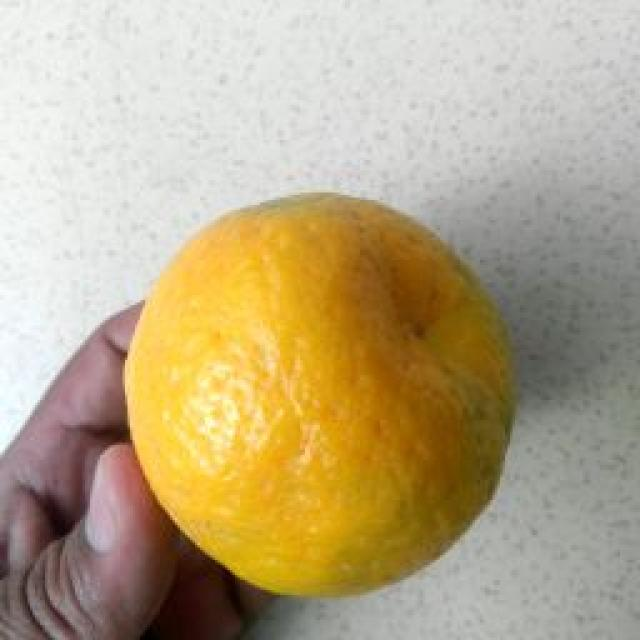Good_Orange: (120, 192, 520, 602)
